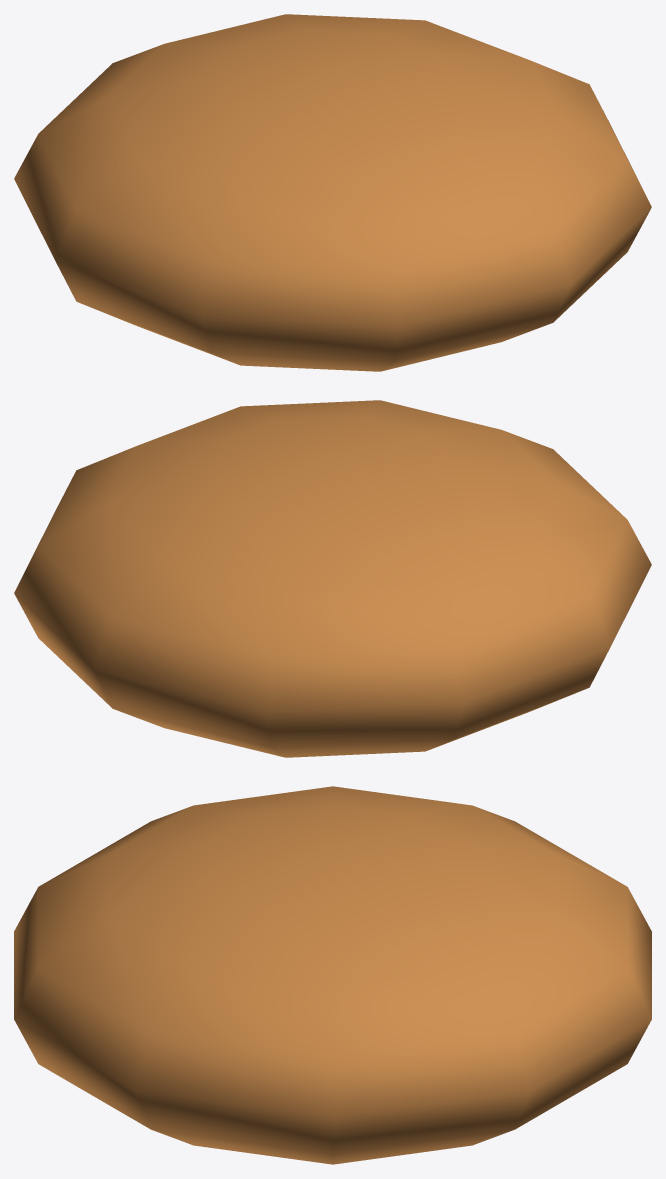
File: lenteja.glb
3 renders of one model, top to bottom at view 1: azimuth 30°, elevation 25°; view 2: azimuth 150°, elevation 25°; view 3: azimuth 270°, elevation 25°, orthographic. The views are drawn at different scales.
Visible parts, largest first — view 1: cuerpo; view 2: cuerpo; view 3: cuerpo.
Part boxes in pixels (x1,y1,x2,y2): cuerpo: [14, 14, 651, 371]; cuerpo: [14, 400, 651, 757]; cuerpo: [14, 786, 651, 1164].
Bounding box in the file's own units: 0.116 × 0.048 × 0.1103.
